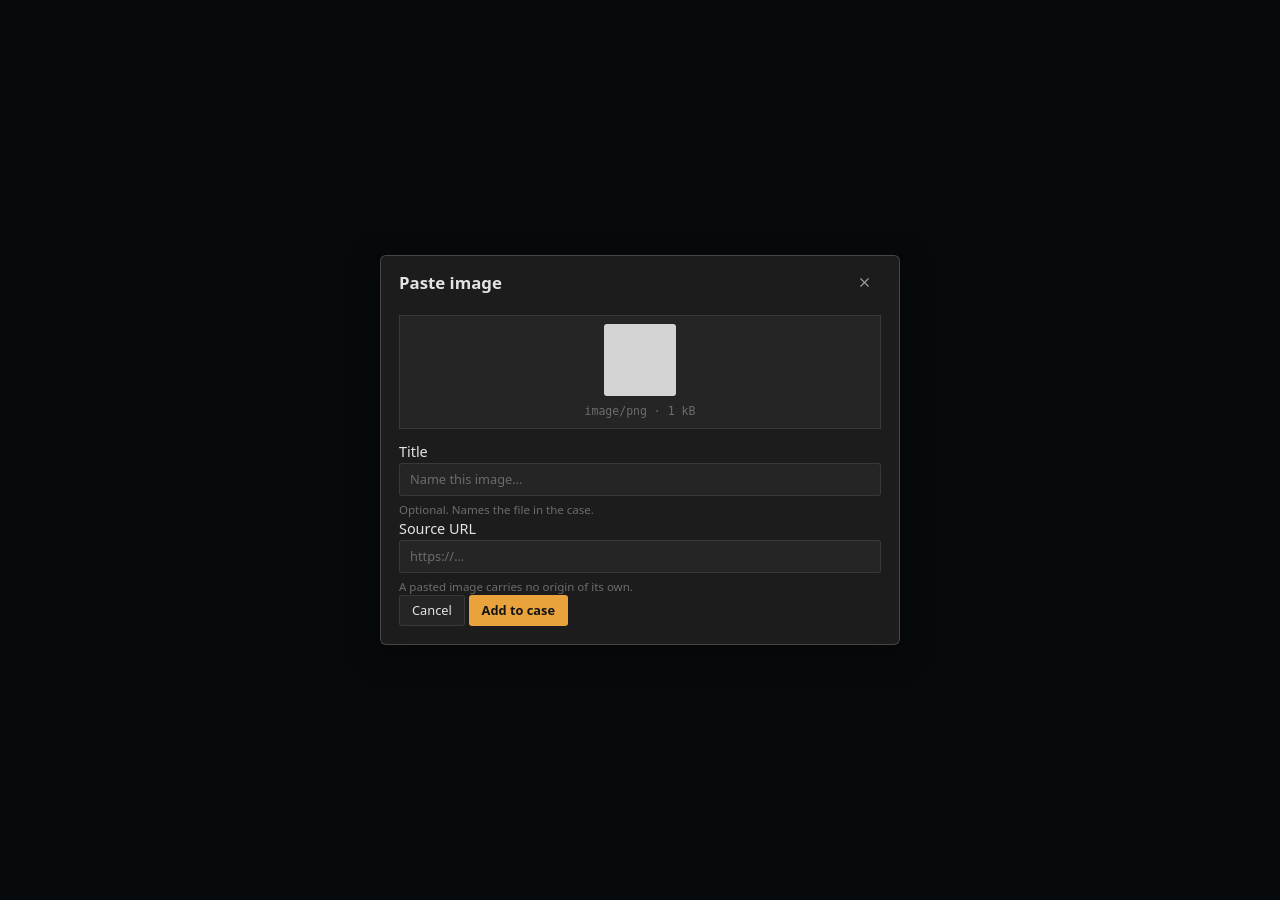
a pasted image › refuses to file a source that is not an address, and says so
The width and height of the screenshot is (1280, 900).
Type "nonsense" into the field labelled "Source URL" at (640, 556), box 399,540 -> 881,573
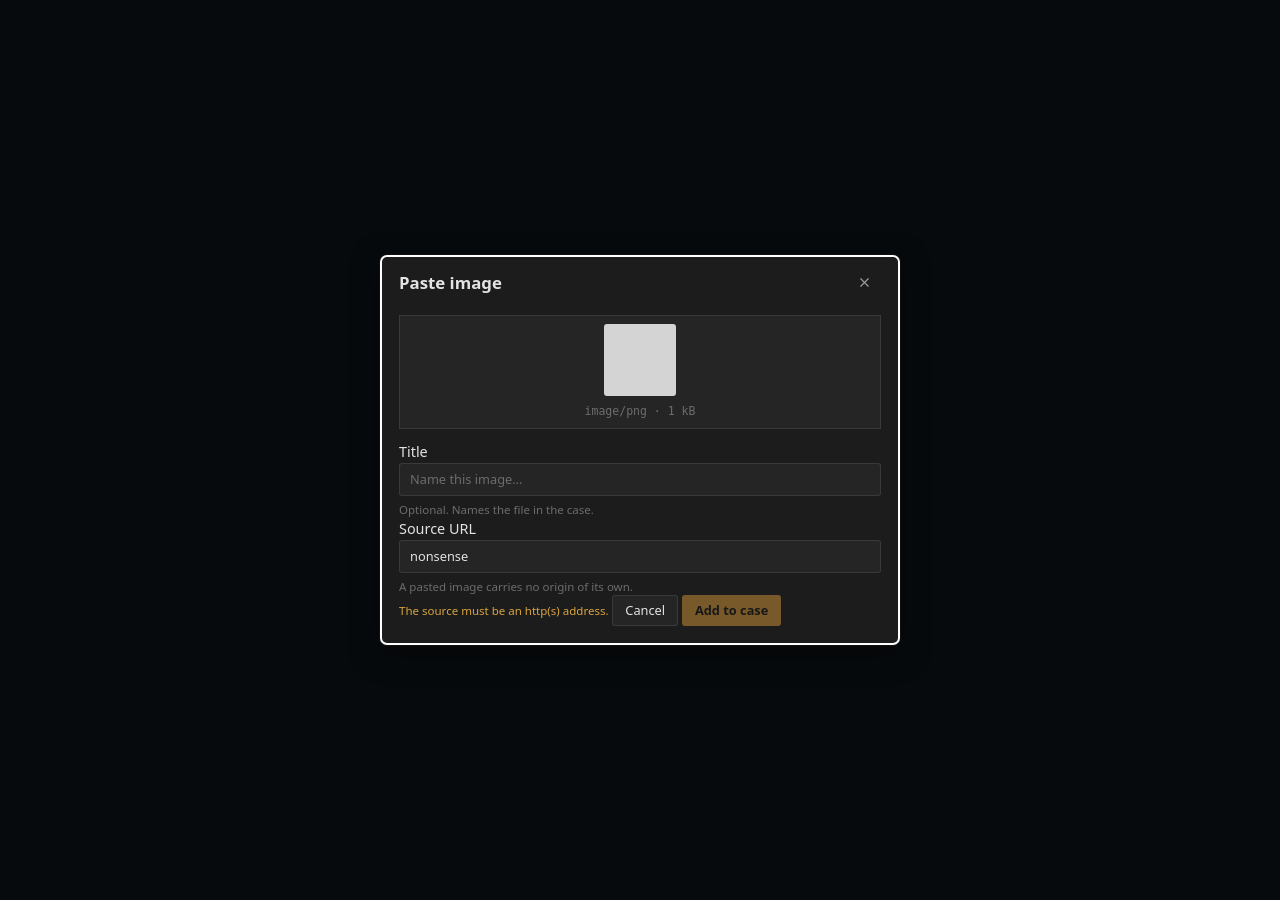
expect the text "http(s) address" is shown: met, box 399,603 -> 608,618
expect the button "Add to case" is disabled: met, box 682,595 -> 781,626
